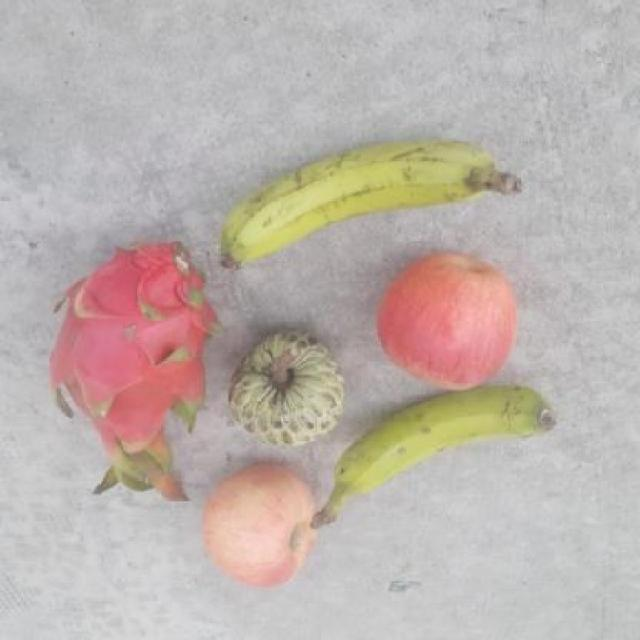apple: (375, 250, 520, 392), (198, 460, 320, 589)
banana: (220, 138, 528, 274), (308, 383, 557, 529)
dragon fruit: (43, 242, 222, 462)
sugar apple: (226, 332, 346, 448)
